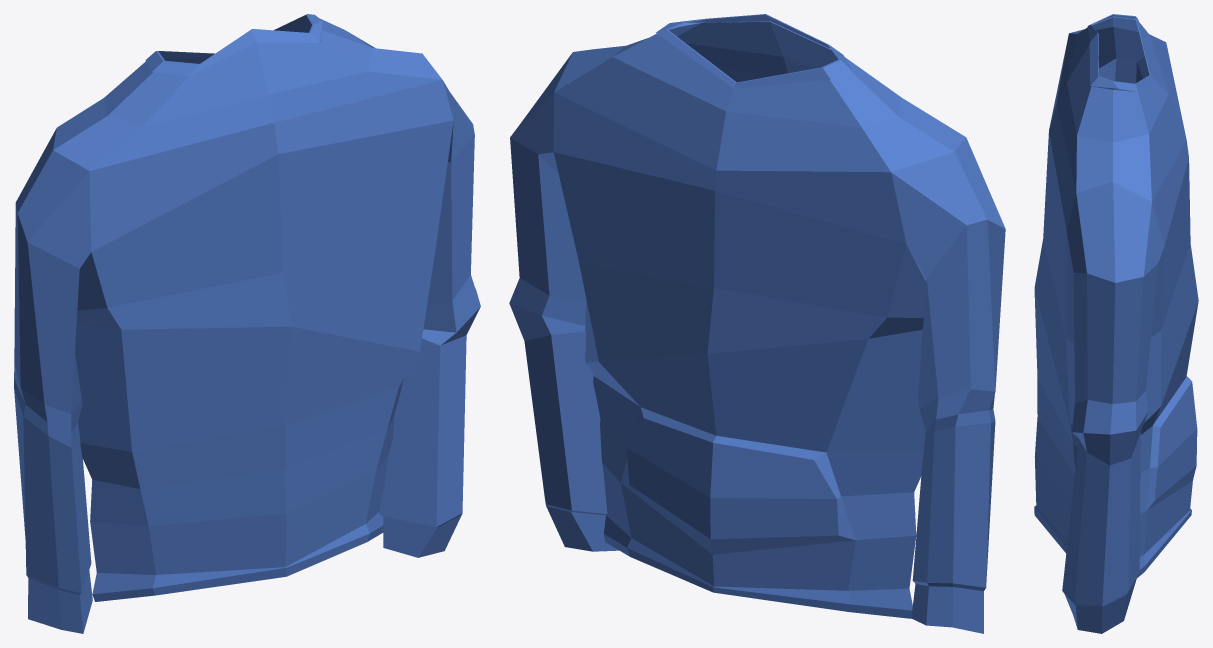
Rendered from 2021hangingshirt3.fbx.
3 renders of one model, left to right at view 1: azimuth 30°, elevation 25°; view 2: azimuth 150°, elevation 25°; view 3: azimuth 270°, elevation 25°, orthographic. The views are drawn at different scales.
Visible parts, largest first — view 1: Cylinder.001; view 2: Cylinder.001; view 3: Cylinder.001.
Part boxes in pixels (<box>): Cylinder.001: <box>14,14,480,633</box>; Cylinder.001: <box>509,14,1005,633</box>; Cylinder.001: <box>1034,14,1198,633</box>.
Size of the model in its own units: 134 by 155 by 44.92.
